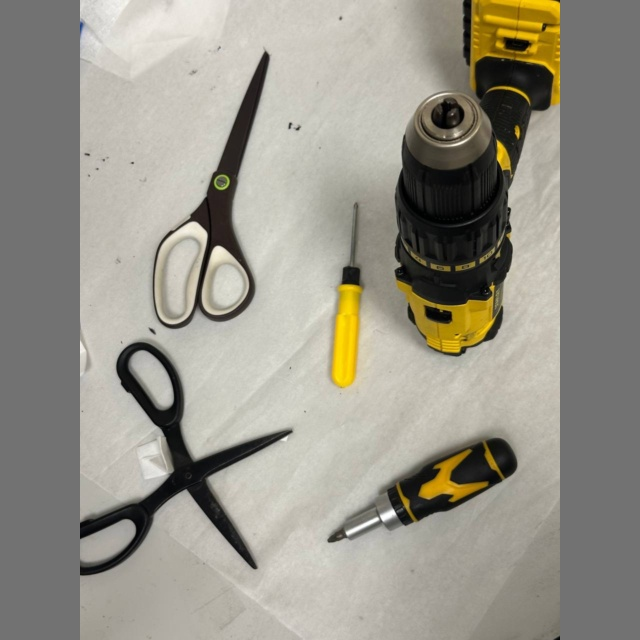drill: (397, 0, 560, 358)
scissor: (80, 342, 291, 575), (153, 52, 269, 328)
screwdriver: (328, 438, 517, 543), (332, 203, 362, 387)
